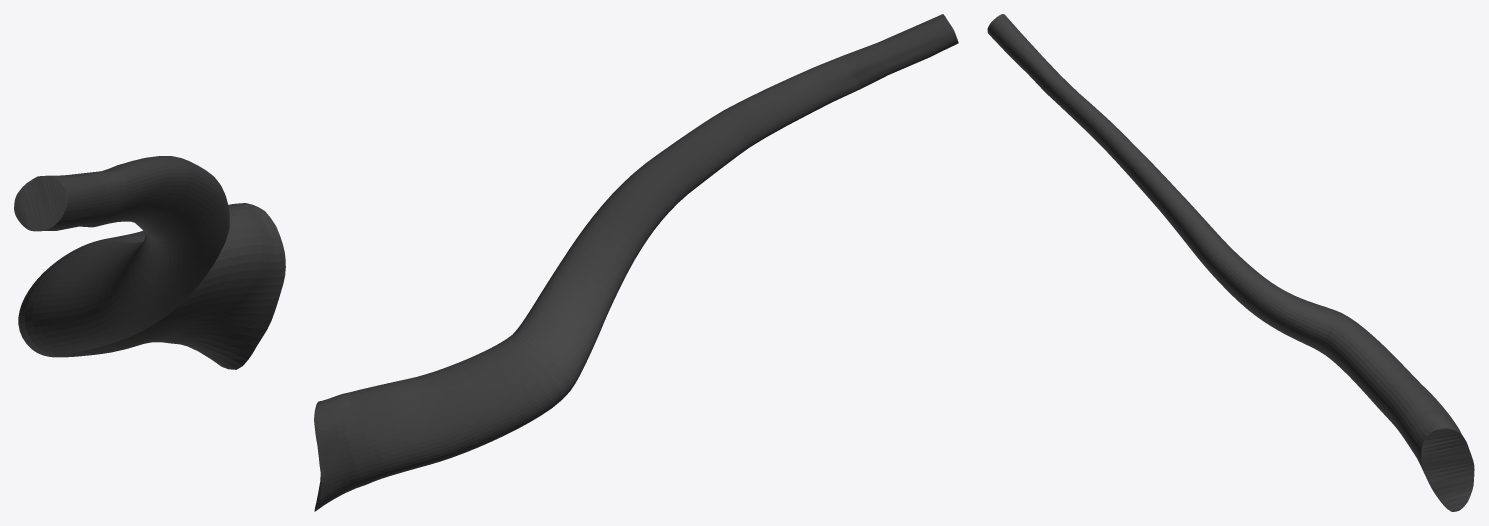
File: N_2_optic.glb
3 renders of one model, left to right at view 1: azimuth 30°, elevation 25°; view 2: azimuth 150°, elevation 25°; view 3: azimuth 270°, elevation 25°, orthographic. The views are drawn at different scales.
Parts seen in each view (by area): view 1: N_2_optic; view 2: N_2_optic; view 3: N_2_optic.
Part boxes in pixels (bbox=[...]): N_2_optic: bbox=[14, 156, 285, 369]; N_2_optic: bbox=[314, 14, 958, 511]; N_2_optic: bbox=[987, 14, 1474, 511].
Bounding box in the file's own units: 0.00826 × 0.00782 × 0.0101.
1 material, 1 textured.
